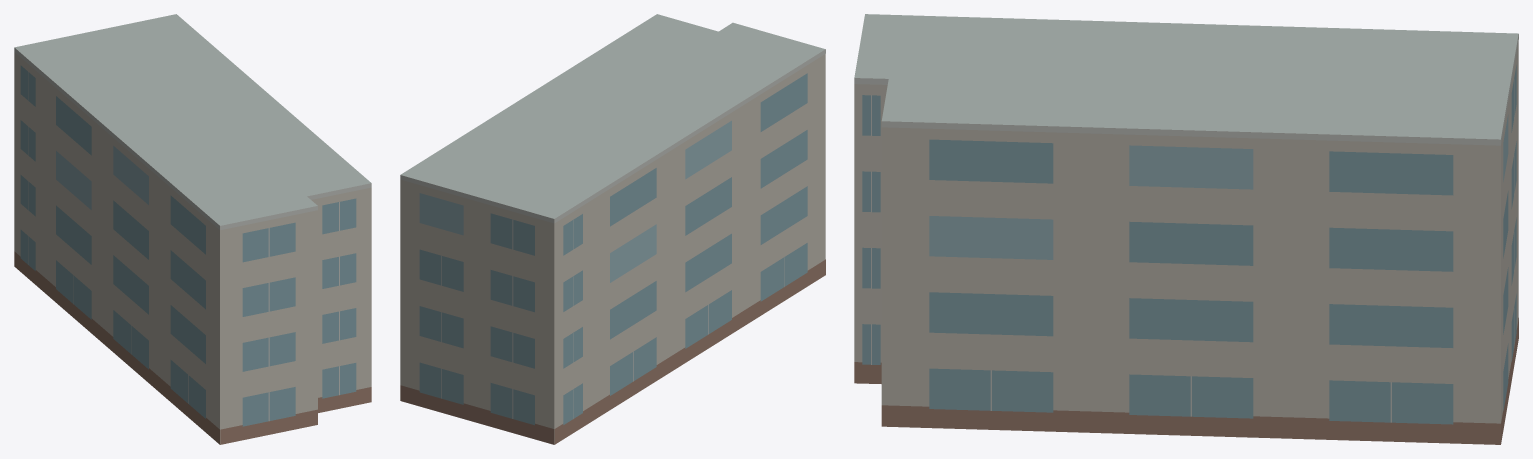
The model's file is residential-f88998d4-cef6-44da-b978-564745170be3.glb.
3 views of the same model, side by side, from view 1: azimuth 30°, elevation 25°; view 2: azimuth 150°, elevation 25°; view 3: azimuth 270°, elevation 25° (orthographic). The views are drawn at different scales.
Visible parts, largest first — view 1: residential-f88998d4-cef6-44da-b978-564745170be3.tmp; view 2: residential-f88998d4-cef6-44da-b978-564745170be3.tmp; view 3: residential-f88998d4-cef6-44da-b978-564745170be3.tmp.
Part boxes in pixels (box(x1,y1,x2,y2)): residential-f88998d4-cef6-44da-b978-564745170be3.tmp: box(14, 14, 371, 444); residential-f88998d4-cef6-44da-b978-564745170be3.tmp: box(400, 14, 825, 444); residential-f88998d4-cef6-44da-b978-564745170be3.tmp: box(854, 14, 1518, 444).
Bounding box in the file's own units: 10.76 × 12.2 × 24.07.
